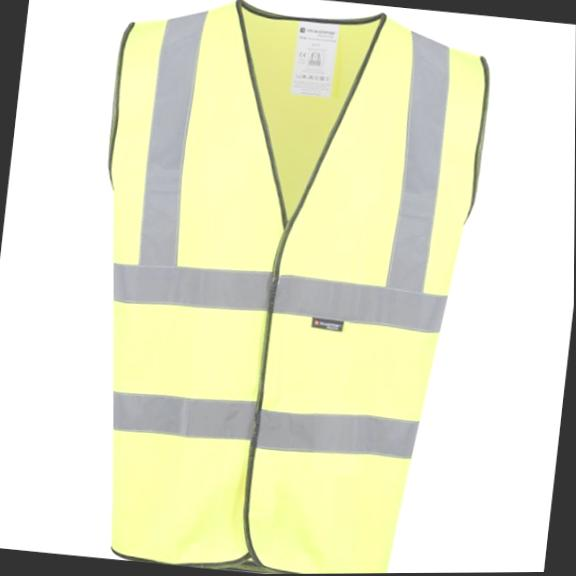safety_vest: (57, 0, 498, 576)
